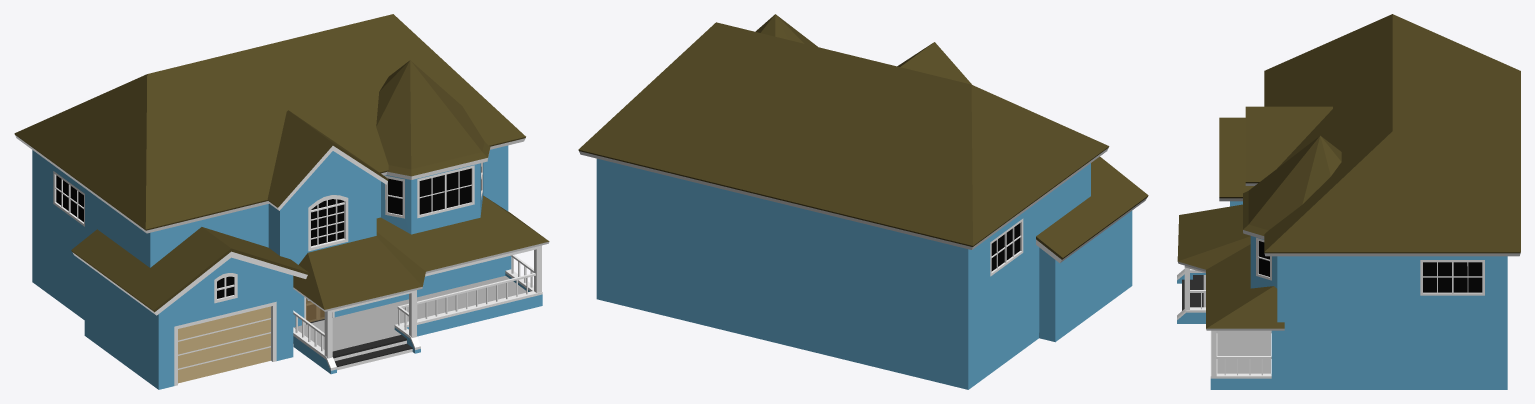
Rendered from House-30.fbx.
The picture shows the model from 3 angles, left to right: view 1: azimuth 30°, elevation 25°; view 2: azimuth 150°, elevation 25°; view 3: azimuth 270°, elevation 25°; orthographic projection. The views are drawn at different scales.
Parts seen in each view (by area): view 1: House-20-c; view 2: House-20-c; view 3: House-20-c.
Boxes of the visible parts, <box> form: House-20-c: <box>14,14,549,389</box>; House-20-c: <box>578,14,1148,389</box>; House-20-c: <box>1177,14,1520,389</box>.
Size of what is drawn, in the model's own units: 19.64 by 11.27 by 15.14.
